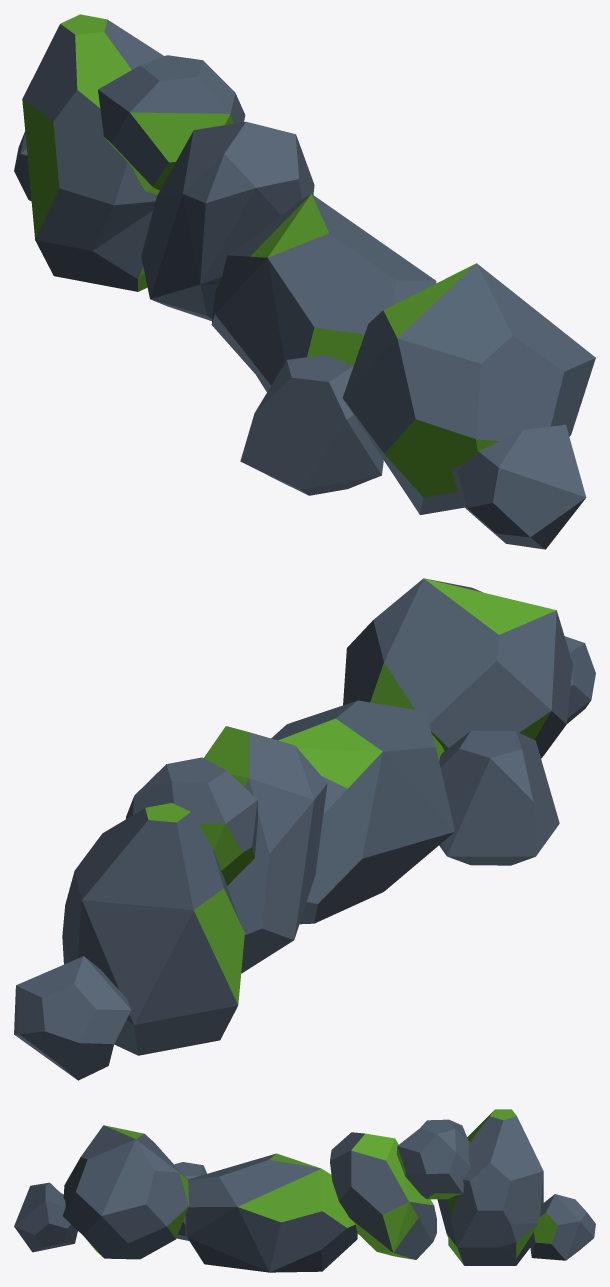
File: RockGroupA.glb
3 views of the same model, one above another, from view 1: azimuth 30°, elevation 25°; view 2: azimuth 150°, elevation 25°; view 3: azimuth 270°, elevation 25° (orthographic). The views are drawn at different scales.
Parts seen in each view (by area): view 1: Icosphere.007; view 2: Icosphere.007; view 3: Icosphere.007.
Part boxes in pixels (bbox=[...]): Icosphere.007: bbox=[14, 14, 595, 549]; Icosphere.007: bbox=[14, 578, 595, 1080]; Icosphere.007: bbox=[14, 1109, 595, 1272].
Size of what is drawn, in the model's own units: 1.17 by 1.06 by 3.98.
